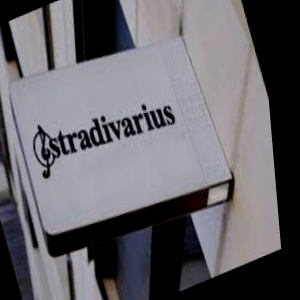stradivarius: (155, 13, 203, 112)
